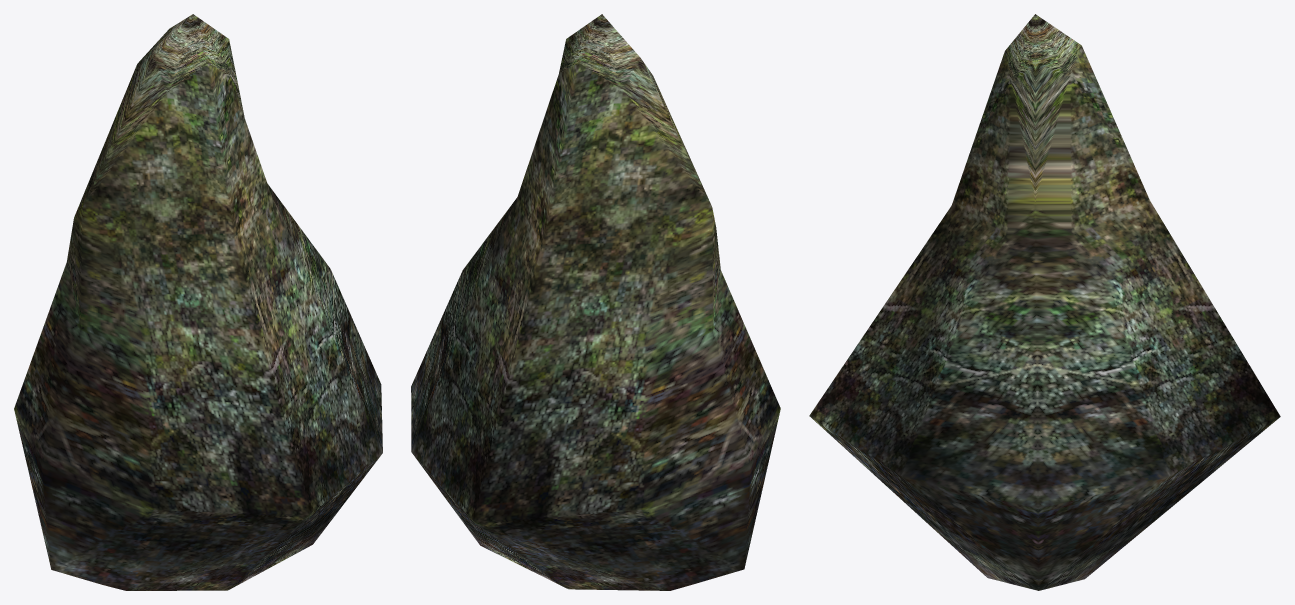
Rendered from thm_all_cave_stalagmite_damprock_a2_l1.fbx.
The picture shows the model from 3 angles, left to right: view 1: azimuth 30°, elevation 25°; view 2: azimuth 150°, elevation 25°; view 3: azimuth 270°, elevation 25°; orthographic projection. The views are drawn at different scales.
Visible parts, largest first — view 1: mesh_node; view 2: mesh_node; view 3: mesh_node.
Part boxes in pixels (x1,y1,x2,y2): mesh_node: (14, 14, 382, 590); mesh_node: (411, 14, 780, 590); mesh_node: (809, 14, 1280, 590).
Size of the model in its own units: 0.8366 by 1.33 by 1.04.
